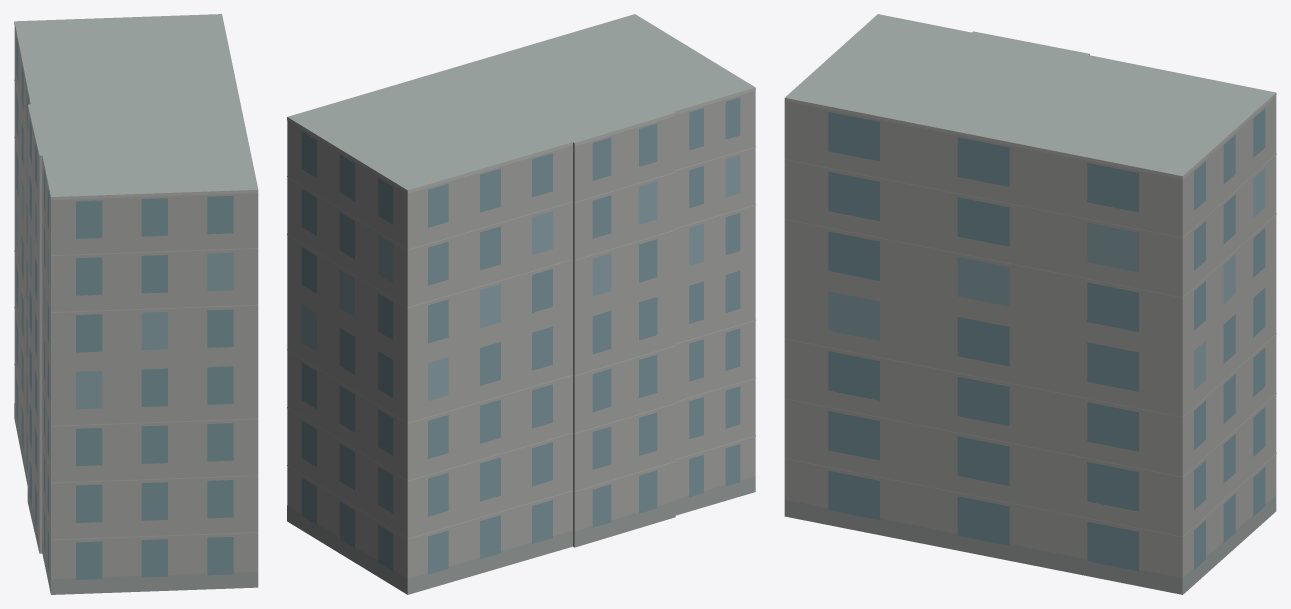
The model's file is survey-upis-32693701.glb.
3 renders of one model, left to right at view 1: azimuth 30°, elevation 25°; view 2: azimuth 150°, elevation 25°; view 3: azimuth 270°, elevation 25°, orthographic. The views are drawn at different scales.
Parts seen in each view (by area): view 1: survey-upis-32693701.tmp; view 2: survey-upis-32693701.tmp; view 3: survey-upis-32693701.tmp.
Boxes of the visible parts, left/top/right/bottom form: survey-upis-32693701.tmp: left=14, top=14, right=258, bottom=594; survey-upis-32693701.tmp: left=287, top=14, right=755, bottom=594; survey-upis-32693701.tmp: left=784, top=14, right=1276, bottom=594.
Bounding box in the file's own units: 24.54 × 29.5 × 31.43.
